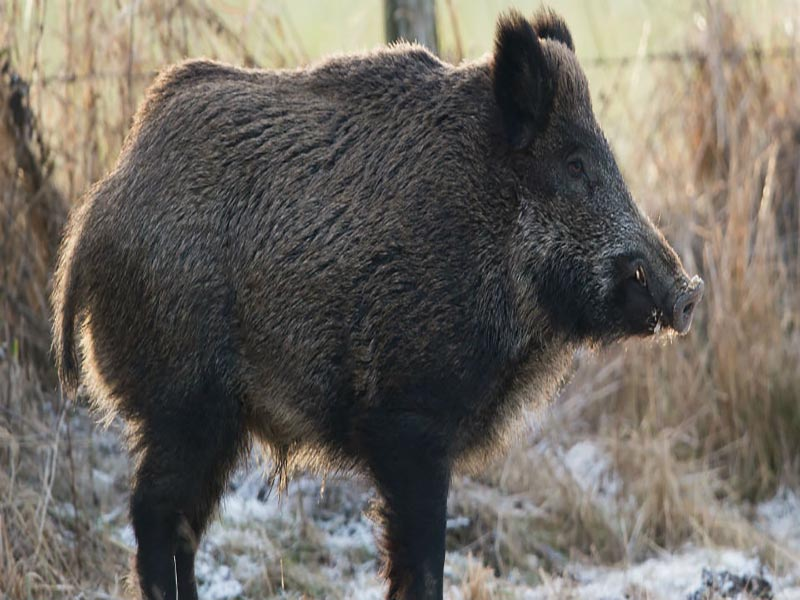cinghiale: (60, 11, 705, 591)
